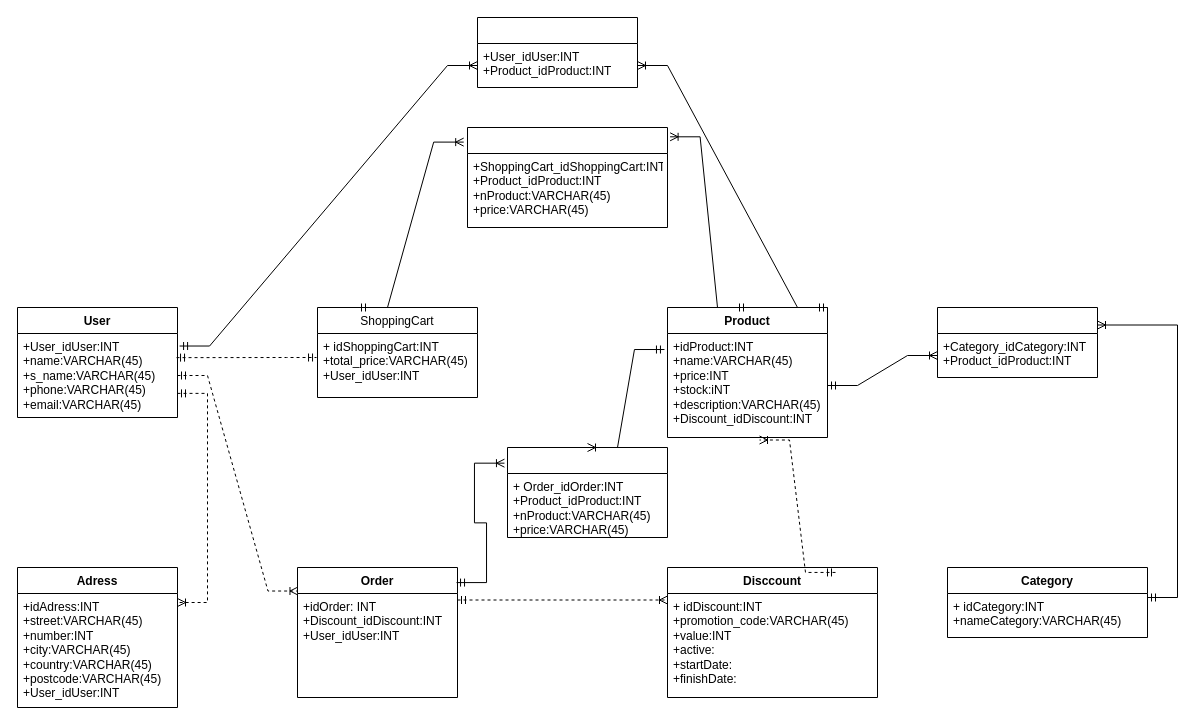
Image size: 1204x728. Some labels were removed from this diagram. Each missing label, with the box of its shape:
Category_has_Product: (936, 306, 1098, 378)
Favourite_Product: (476, 16, 638, 88)
Order_has_Product: (506, 446, 668, 538)
ShoppingCart _has_Product: (466, 126, 668, 228)
